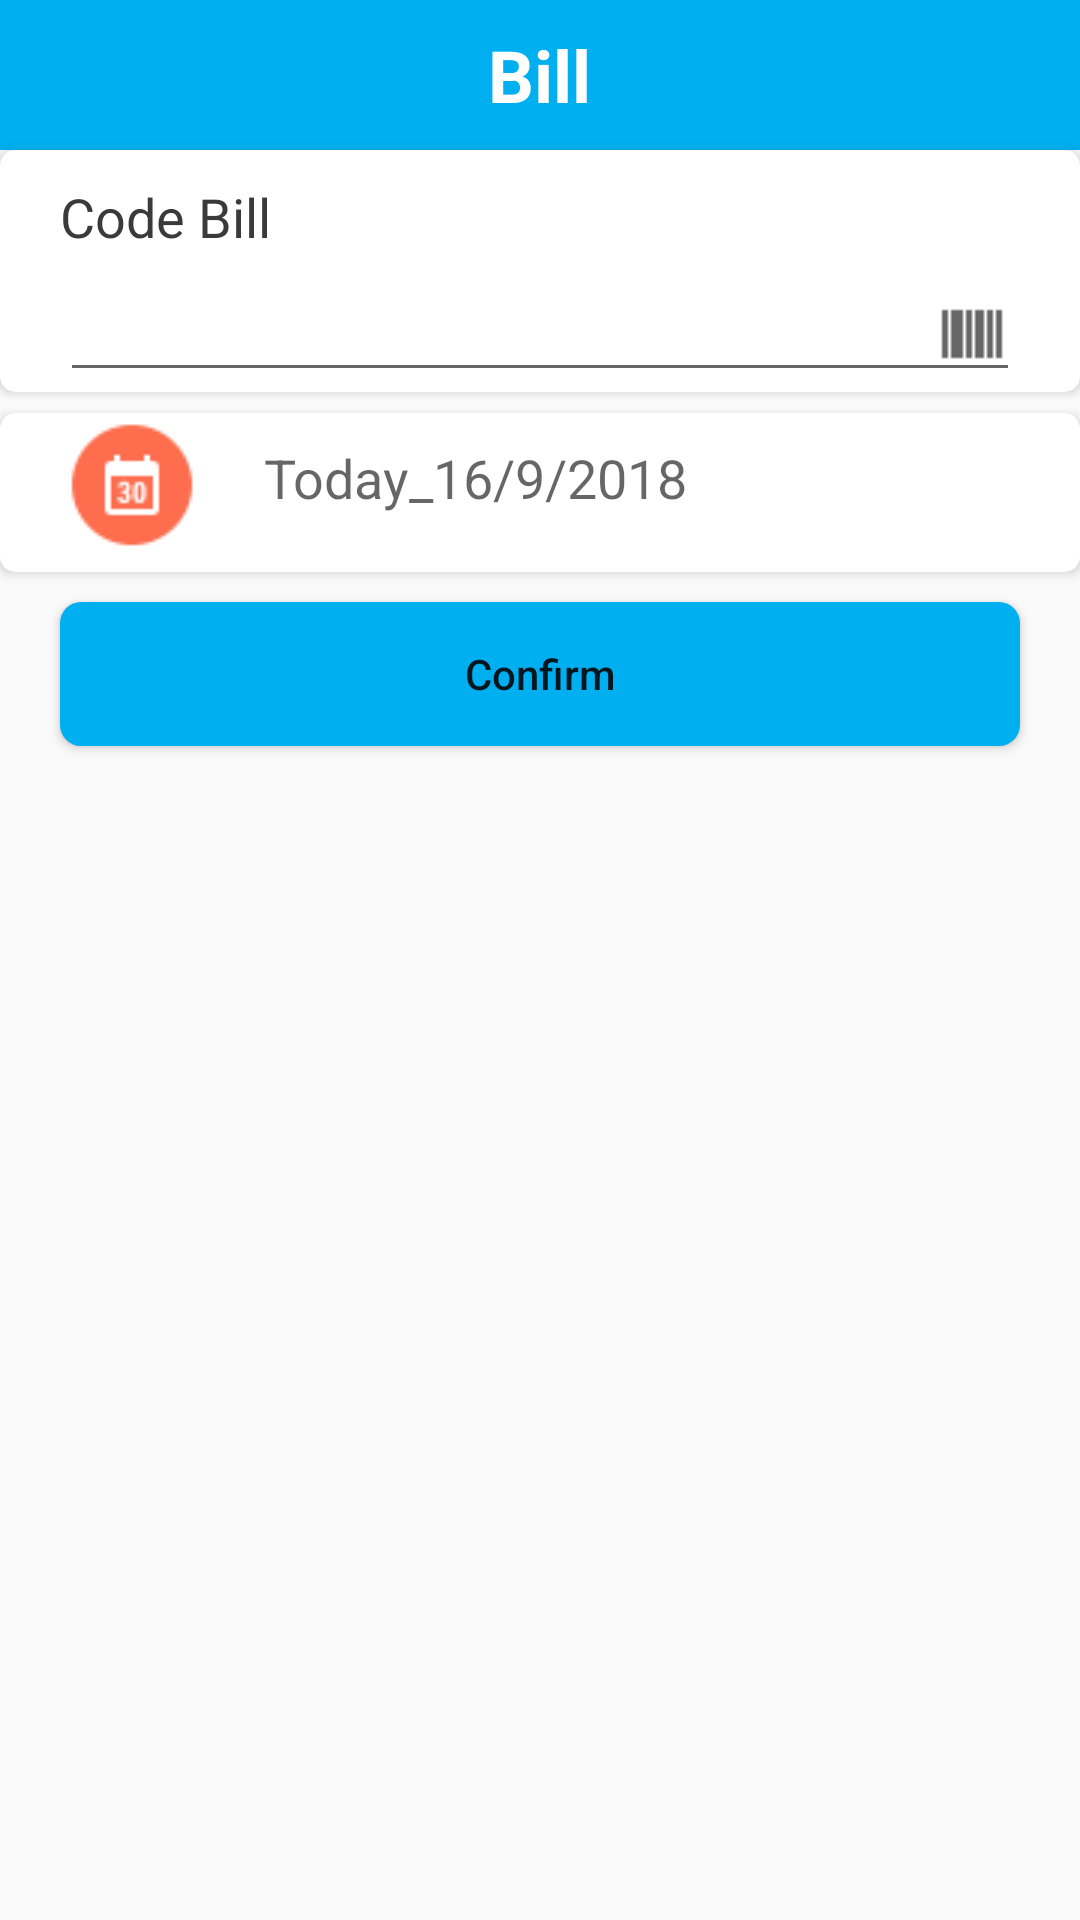

Screen size 1080 × 1920. Icon name, then its box in pixels as (x1, y1, x2, y2):
iconlich: (71, 424, 193, 546)
